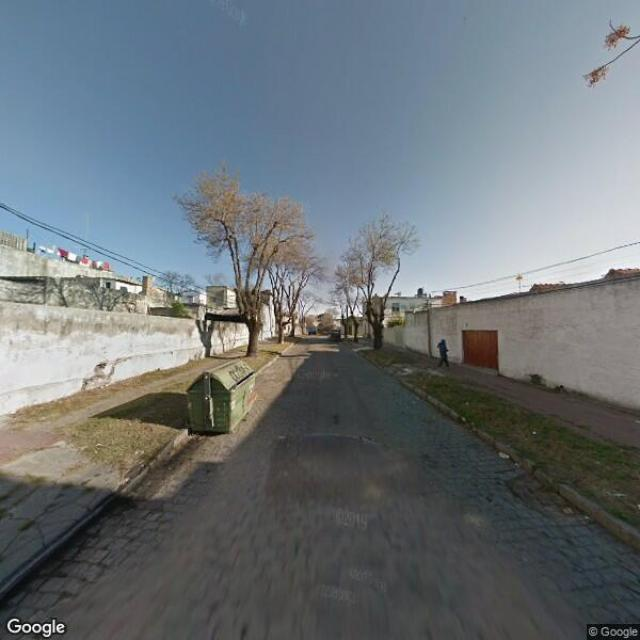garbage container: (183, 352, 264, 447)
